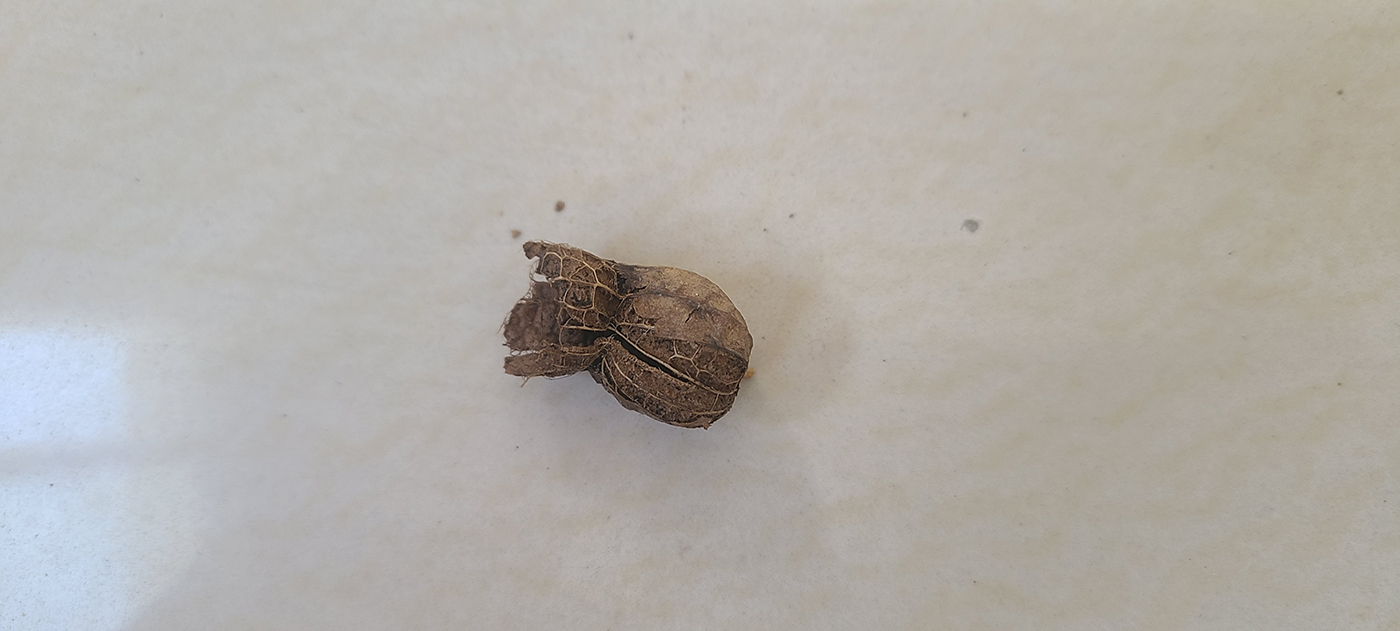l: (498, 239, 754, 432)
